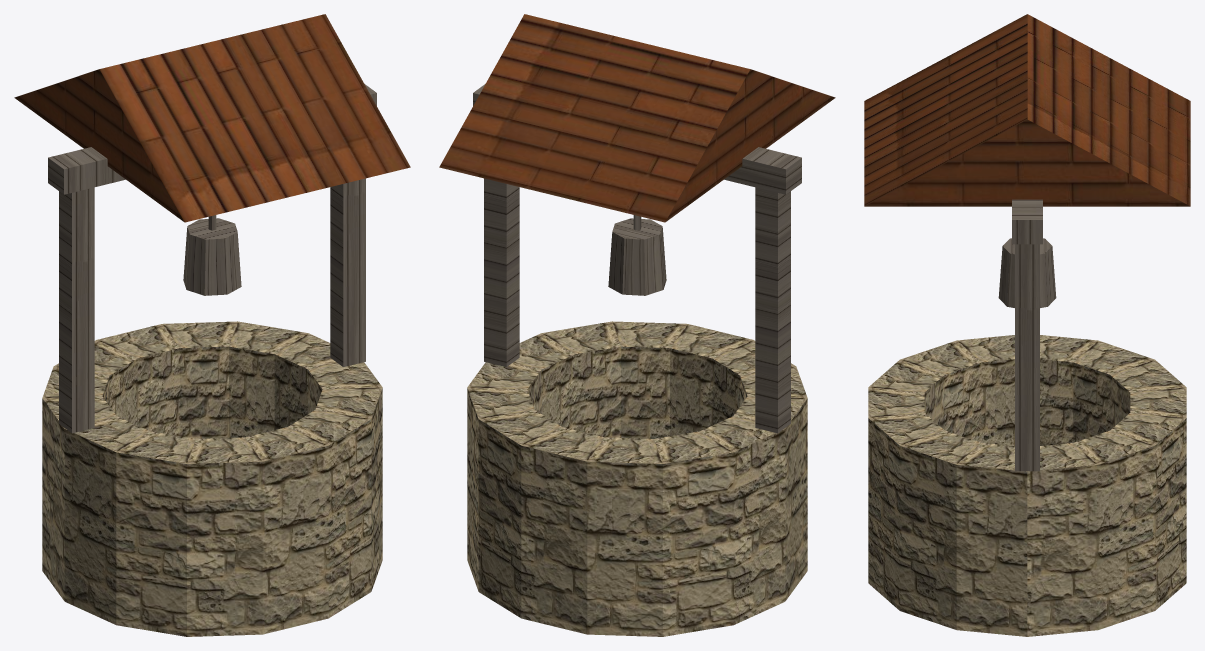
The model's file is well_01.glb.
3 renders of one model, left to right at view 1: azimuth 30°, elevation 25°; view 2: azimuth 150°, elevation 25°; view 3: azimuth 270°, elevation 25°, orthographic. The views are drawn at different scales.
Visible parts, largest first — view 1: well_01; view 2: well_01; view 3: well_01.
Part boxes in pixels (box(x1,y1,x2,y2)): well_01: box(14, 14, 410, 636); well_01: box(439, 14, 835, 636); well_01: box(864, 14, 1190, 636).
Bounding box in the file's own units: 1.8 × 2.88 × 1.7.
Materials: 3 (3 with a texture image).
